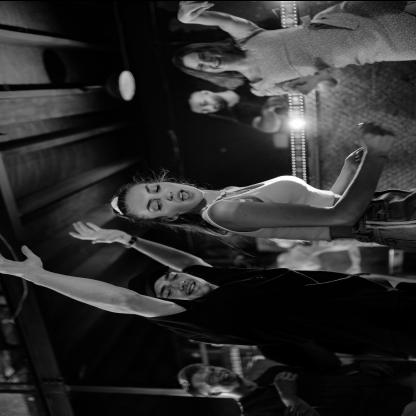Eye: (153, 199, 162, 210), (164, 287, 172, 297), (152, 184, 160, 192), (170, 272, 178, 280), (207, 376, 212, 382), (199, 63, 204, 68), (201, 52, 205, 58), (210, 366, 216, 370)
Mouth: (177, 188, 193, 200), (186, 279, 198, 295), (214, 56, 222, 68), (223, 370, 230, 380)
Nose: (172, 279, 186, 289), (158, 191, 173, 199), (212, 370, 222, 376), (204, 59, 212, 64)
